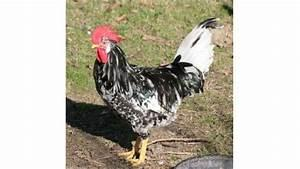hen: (88, 16, 224, 167)
